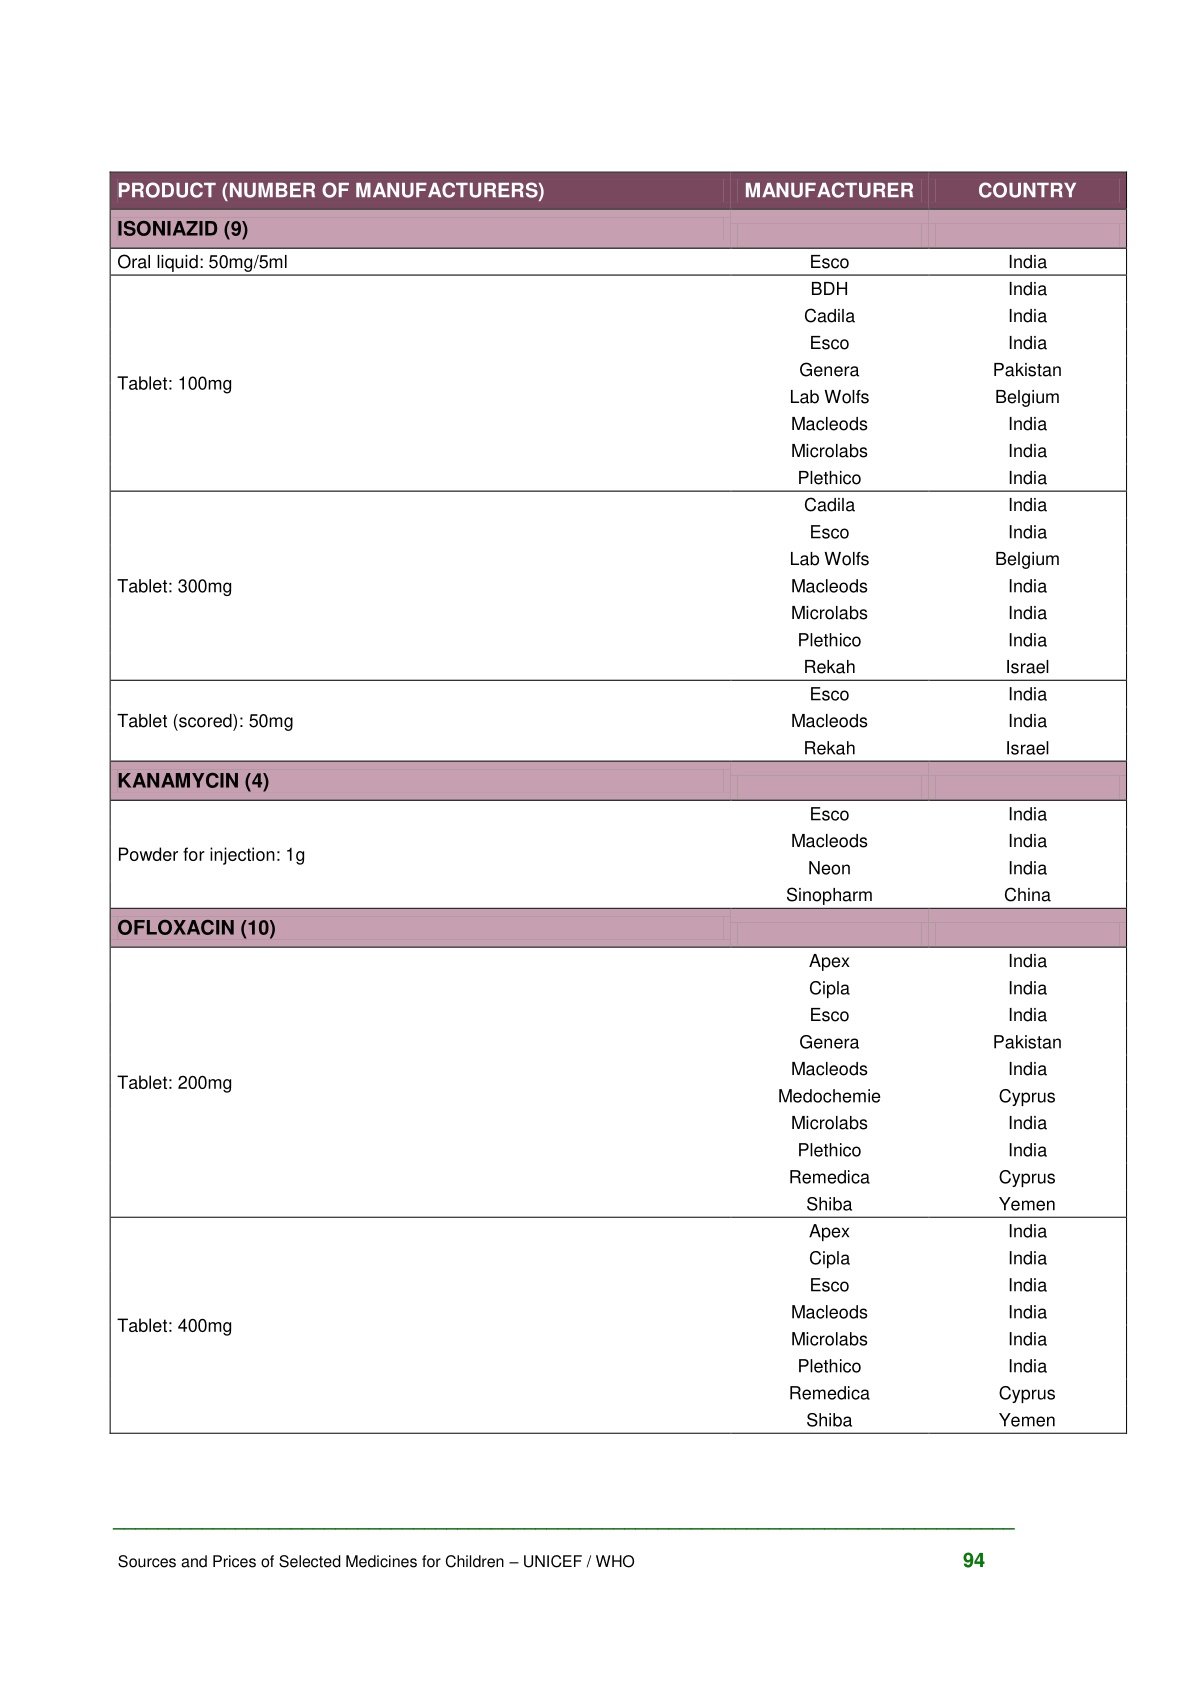partial_lined_merged_cells: (108, 169, 1130, 1437)
